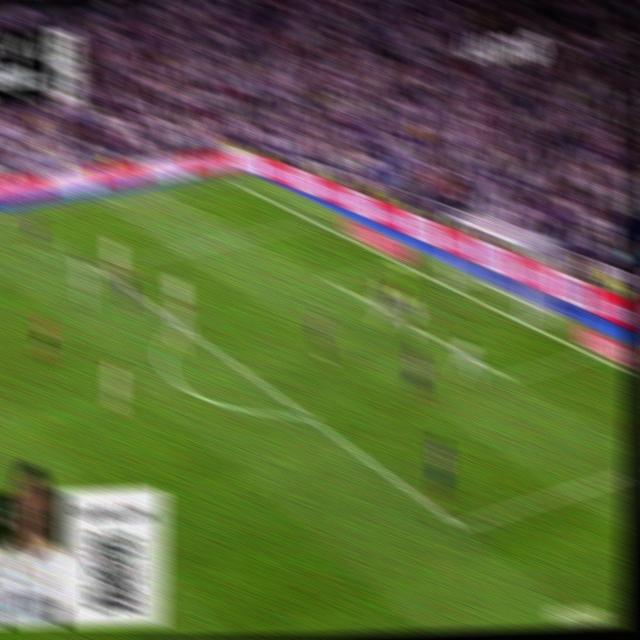bigarea_bottom_inner: (449, 511, 469, 542)
bigarea_top_inner: (89, 253, 108, 278)
bigarea_top_outter: (304, 210, 320, 229)
bottom_arc_area_intersection: (295, 401, 315, 426)
corner: (217, 170, 235, 185)
smallarea_top_inner: (321, 269, 338, 290)
top_arc_area_intersection: (174, 317, 188, 336)
